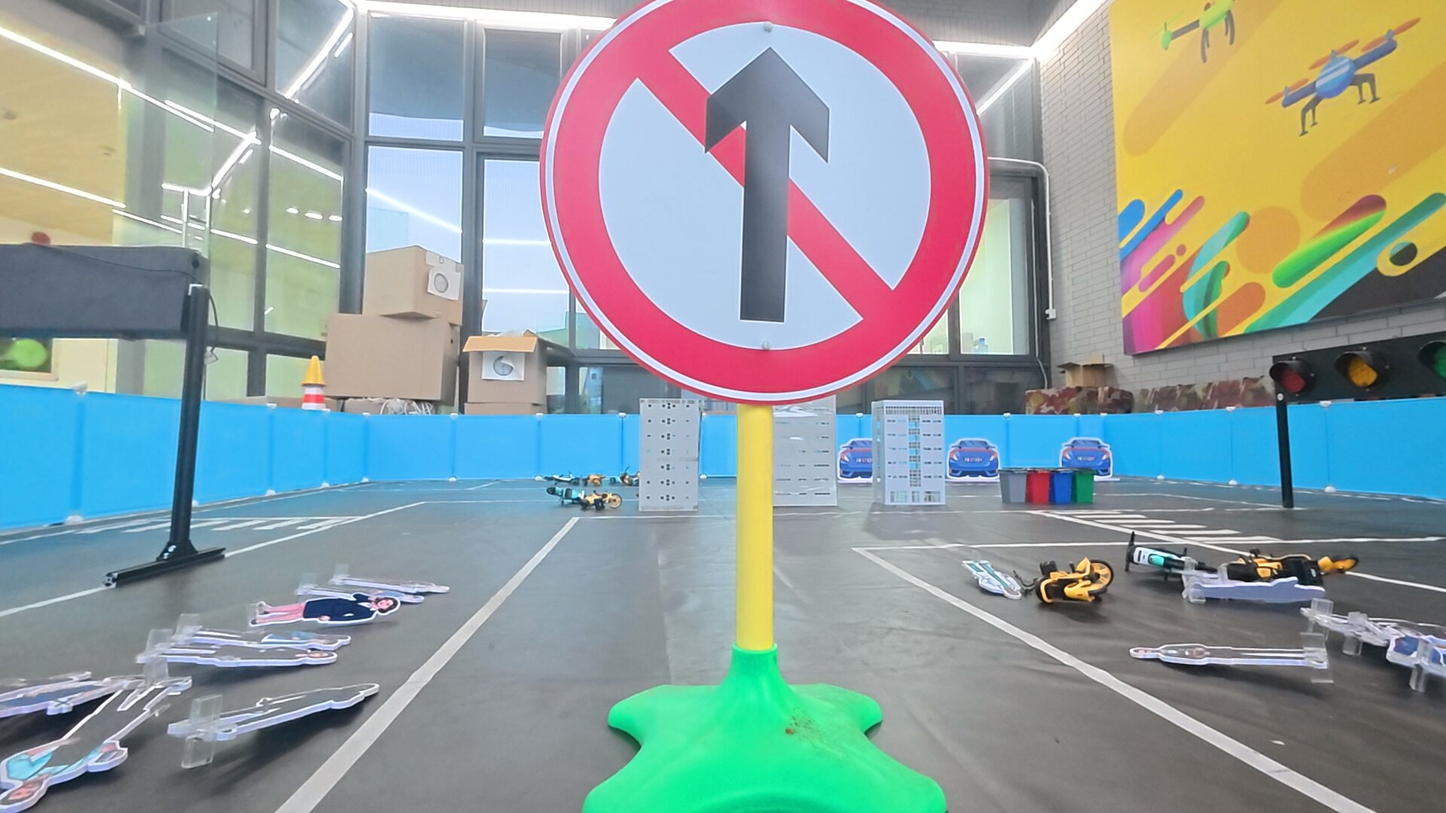obstacle: (539, 0, 986, 407)
